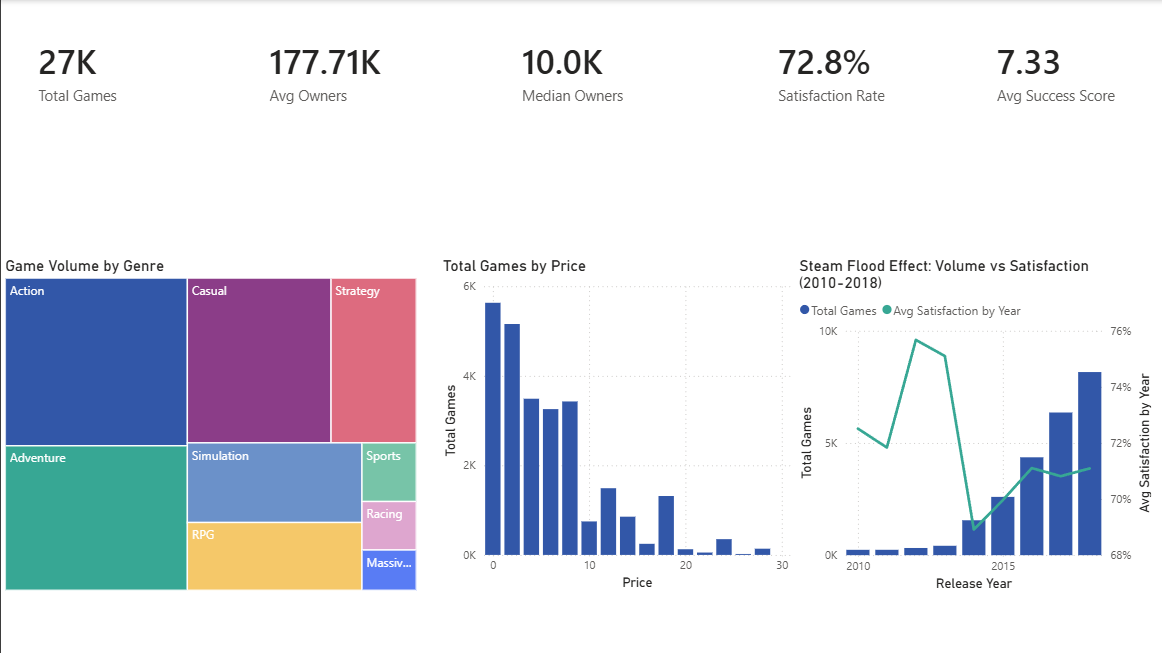

What the dashboard file says about the page in this screenshot:
{"tool":"powerbi","page":{"name":"Market Overview","canvas":[1280,720],"ordinal":0},"visuals":[{"type":"cardVisual","fields":{"Data":["_Measures.Total Games"]},"box":[0,0,207.2,167.4],"z":1000},{"type":"cardVisual","fields":{"Data":["_Measures.Avg Owners"]},"box":[253.9,0,207.2,167.4],"z":2000},{"type":"cardVisual","fields":{"Data":["_Measures.Avg Satisfaction"]},"box":[812.4,0,212.7,167.4],"z":3000},{"type":"cardVisual","fields":{"Data":["_Measures.Avg Success Score"]},"box":[1052.5,0,227.8,167.4],"z":4000},{"type":"treemap","title":"Game Volume by Genre","fields":{"Group":["game_genres.genre"],"Values":["_Measures.Games By Genre"]},"box":[0,281.3,461.1,371.9],"z":5000},{"type":"clusteredColumnChart","fields":{"Y":["_Measures.Total Games"],"Category":["games.price (bins)"]},"box":[480.3,281.3,391.1,371.9],"z":6000},{"type":"lineClusteredColumnComboChart","title":"Steam Flood Effect: Volume vs Satisfaction (2010-2018)","fields":{"Category":["games.release_year"],"Y":["_Measures.Total Games"],"Y2":["_Measures.Avg Satisfaction by Year"]},"box":[871.4,281.3,396.6,371.9],"z":7000},{"type":"cardVisual","fields":{"Data":["_Measures.Median Owners"]},"box":[531,0,219.6,167.4],"z":8000}]}

Visuals, with their boxes in screenshot pixels (x1, y1, x2, y2), scaled from the page's 1280x720 canvas onto the 1162x653 screenshot:
cardVisual - _Measures.Total Games: 0, 0, 188, 152
cardVisual - _Measures.Avg Owners: 230, 0, 419, 152
cardVisual - _Measures.Avg Satisfaction: 738, 0, 931, 152
cardVisual - _Measures.Avg Success Score: 955, 0, 1161, 152
"Game Volume by Genre" treemap: 0, 255, 419, 592
clusteredColumnChart - _Measures.Total Games x games.price (bins): 436, 255, 791, 592
"Steam Flood Effect: Volume vs Satisfaction (2010-2018)" lineClusteredColumnComboChart: 791, 255, 1151, 592
cardVisual - _Measures.Median Owners: 482, 0, 681, 152
